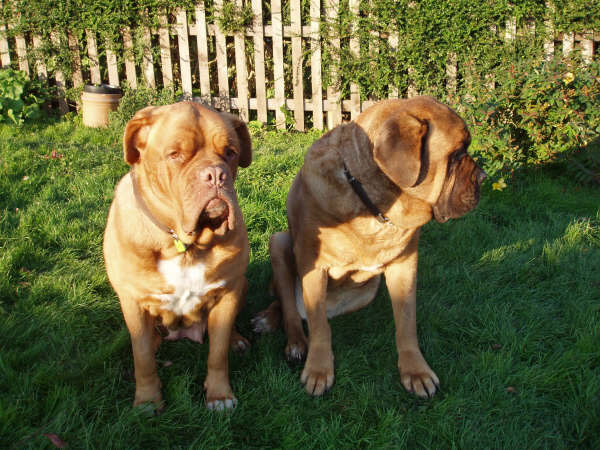dogue_de_bordeaux: (250, 93, 488, 399), (103, 100, 252, 416)
